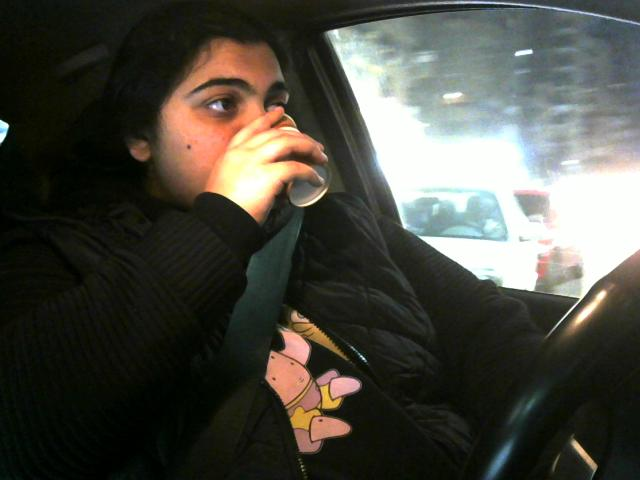Drinking: (124, 38, 329, 207)
